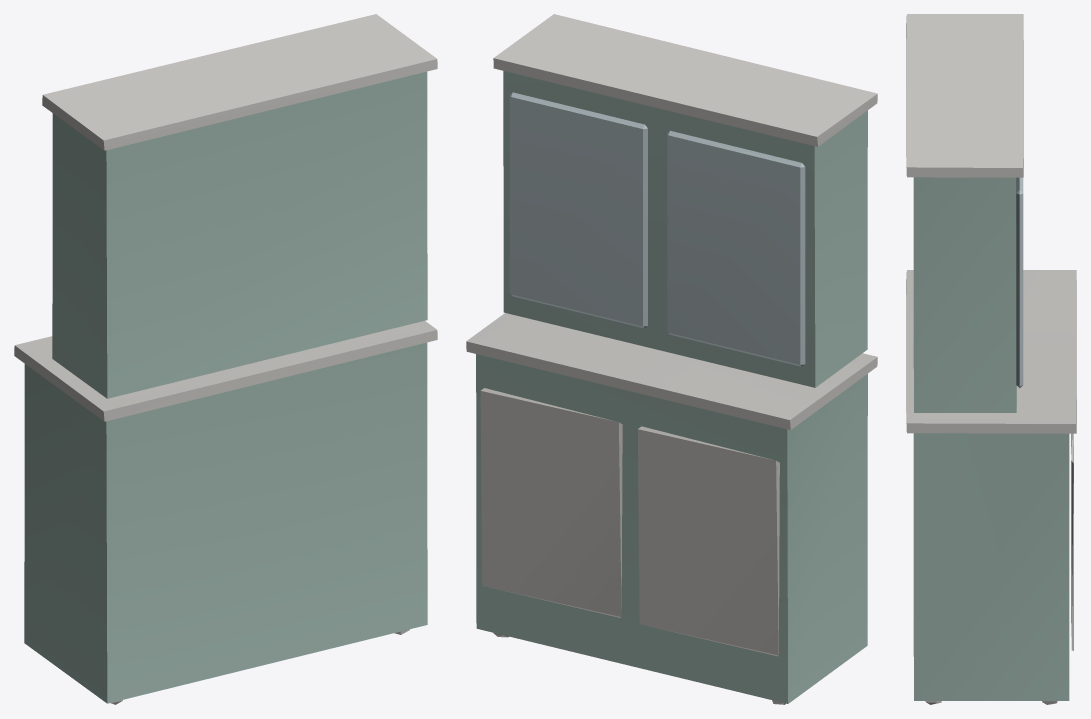
The model's file is furn_cupboard__mint_low.glb.
The picture shows the model from 3 angles, left to right: view 1: azimuth 30°, elevation 25°; view 2: azimuth 150°, elevation 25°; view 3: azimuth 270°, elevation 25°; orthographic projection. The views are drawn at different scales.
Bounding box in the file's own units: 1.03 × 1.71 × 0.4817.
